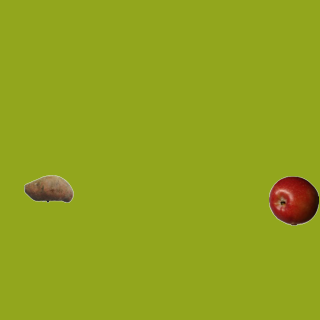Apple Braeburn: (268, 175, 318, 225)
Potato Sweet: (23, 163, 73, 213)
